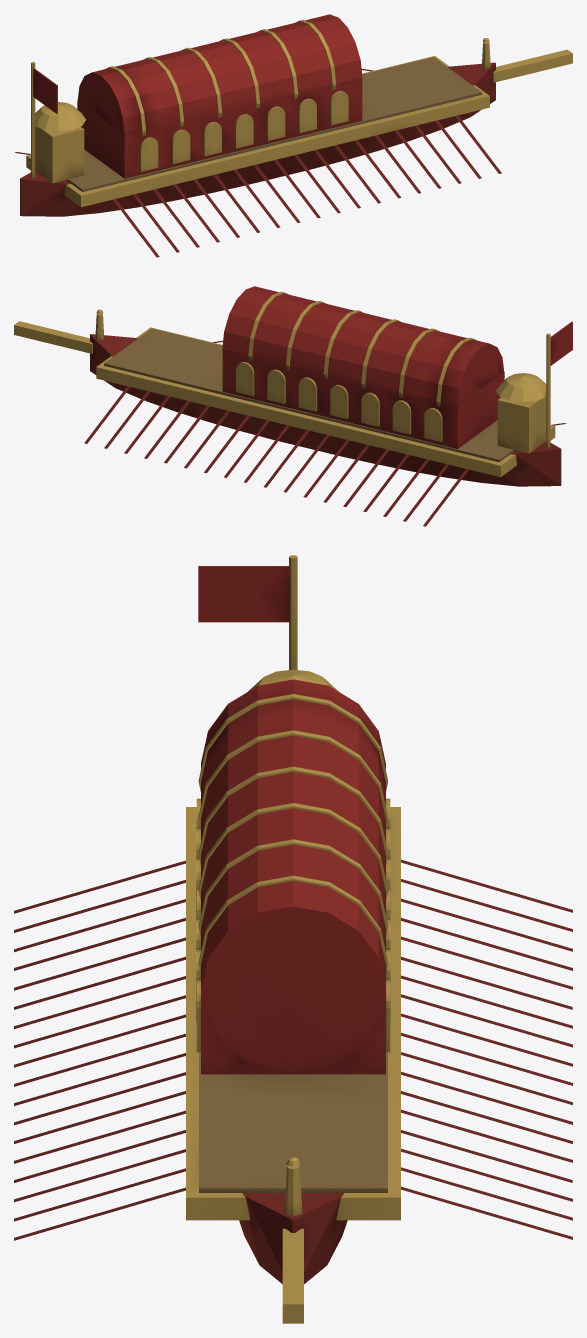
File: bucintoro-1400.glb
3 renders of one model, top to bottom at view 1: azimuth 30°, elevation 25°; view 2: azimuth 150°, elevation 25°; view 3: azimuth 270°, elevation 25°, orthographic. The views are drawn at different scales.
Visible parts, largest first — view 1: p1_canopy, p0_hull; view 2: p1_canopy, p0_hull; view 3: p1_canopy, p0_hull.
Part boxes in pixels (x1,y1,x2,y2): p1_canopy: [30, 14, 362, 183]; p0_hull: [15, 38, 572, 257]; p1_canopy: [222, 286, 572, 453]; p0_hull: [14, 309, 566, 526]; p1_canopy: [196, 555, 390, 1074]; p0_hull: [14, 807, 572, 1323].
Size of the model in its own units: 34.7 by 9.4 by 15.6.
